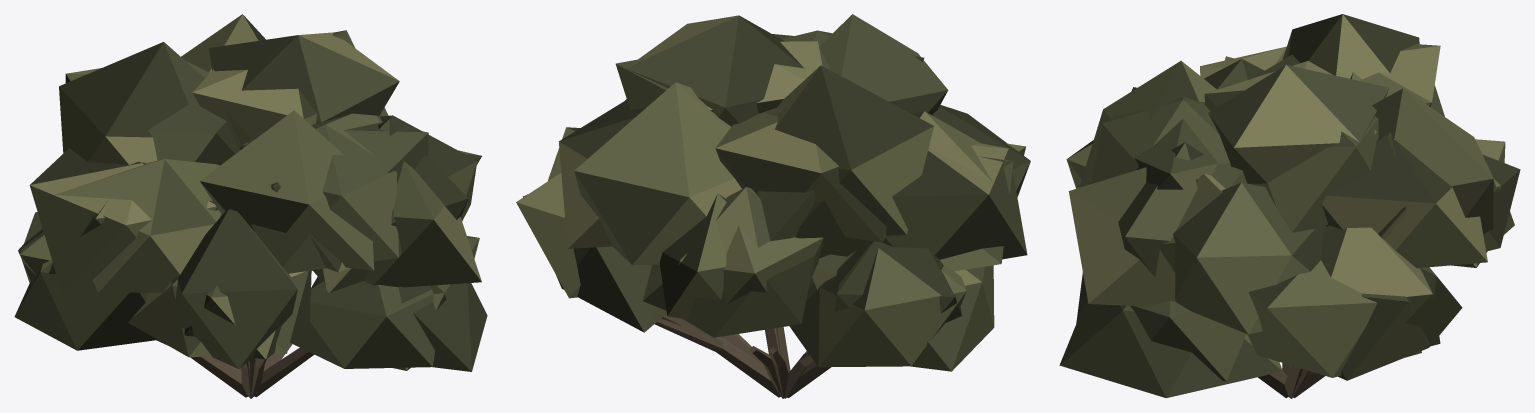
The model's file is shrub-chamise.glb.
The picture shows the model from 3 angles, left to right: view 1: azimuth 30°, elevation 25°; view 2: azimuth 150°, elevation 25°; view 3: azimuth 270°, elevation 25°; orthographic projection. The views are drawn at different scales.
Parts seen in each view (by area): view 1: shrub-chamise_v1_LOD0, shrub-chamise_v0_LOD0, shrub-chamise_v2_LOD0; view 2: shrub-chamise_v0_LOD0, shrub-chamise_v1_LOD0, shrub-chamise_v2_LOD0; view 3: shrub-chamise_v1_LOD0, shrub-chamise_v2_LOD0, shrub-chamise_v0_LOD0.
Boxes of the visible parts, x1,y1,x2,y2 form: shrub-chamise_v1_LOD0: (14,32,487,398); shrub-chamise_v0_LOD0: (18,30,481,398); shrub-chamise_v2_LOD0: (20,14,481,398); shrub-chamise_v0_LOD0: (523,14,1027,398); shrub-chamise_v1_LOD0: (516,15,1030,398); shrub-chamise_v2_LOD0: (548,34,1013,398); shrub-chamise_v1_LOD0: (1059,14,1520,398); shrub-chamise_v2_LOD0: (1097,56,1505,398); shrub-chamise_v0_LOD0: (1068,44,1514,398).
Size of what is drawn, in the model's own units: 2.74 by 2.14 by 2.53.
